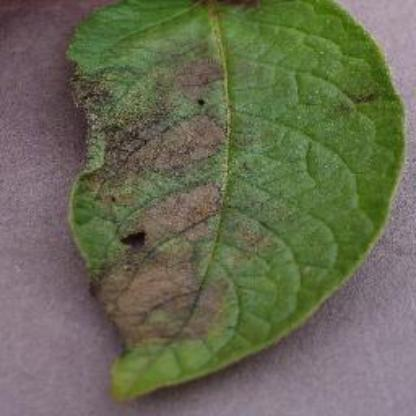Late-Blight: (46, 0, 404, 402)
